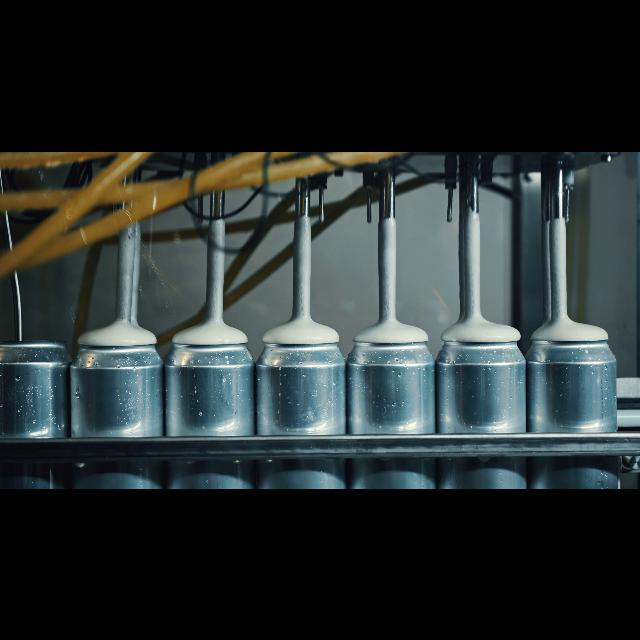empty: (1, 326, 64, 488)
full: (530, 312, 618, 488), (70, 316, 160, 488), (436, 312, 522, 488), (258, 324, 344, 488), (170, 320, 248, 488), (354, 314, 428, 488)
